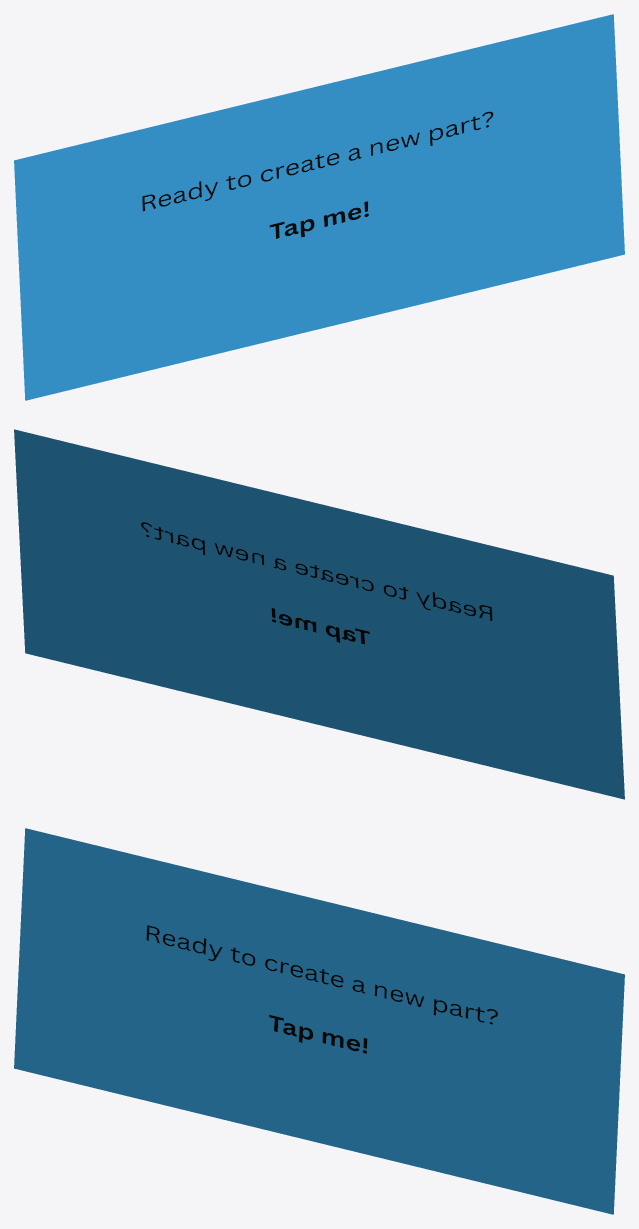
File: ScreenHMI_Ready.glb
The picture shows the model from 3 angles, top to bottom: view 1: azimuth 30°, elevation 25°; view 2: azimuth 150°, elevation 25°; view 3: azimuth 330°, elevation 25°; orthographic projection.
Parts seen in each view (by area): view 1: ScreenHMI_Ready; view 2: ScreenHMI_Ready; view 3: ScreenHMI_Ready.
Part boxes in pixels (x1,y1,x2,y2): ScreenHMI_Ready: (14,14,624,400); ScreenHMI_Ready: (14,429,624,799); ScreenHMI_Ready: (14,828,624,1214).
Bounding box in the file's own units: 0.266 × 0.0984 × 0.00861.
Materials: 1 (1 with a texture image).
